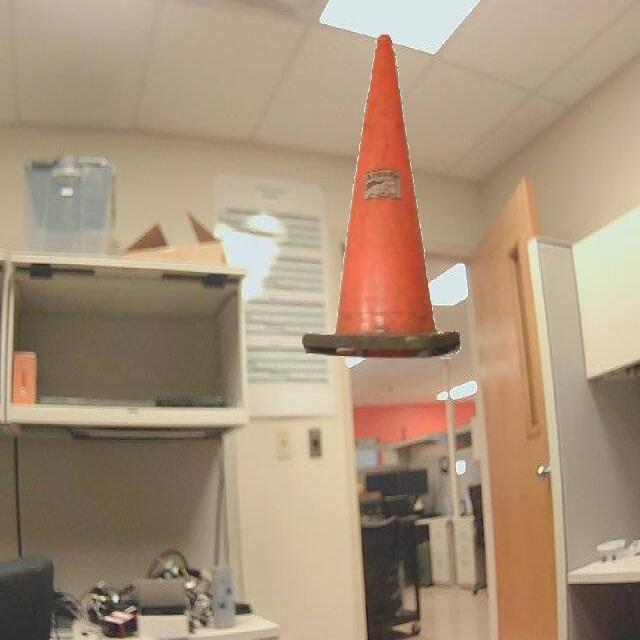traffic cone: (295, 29, 468, 369)
